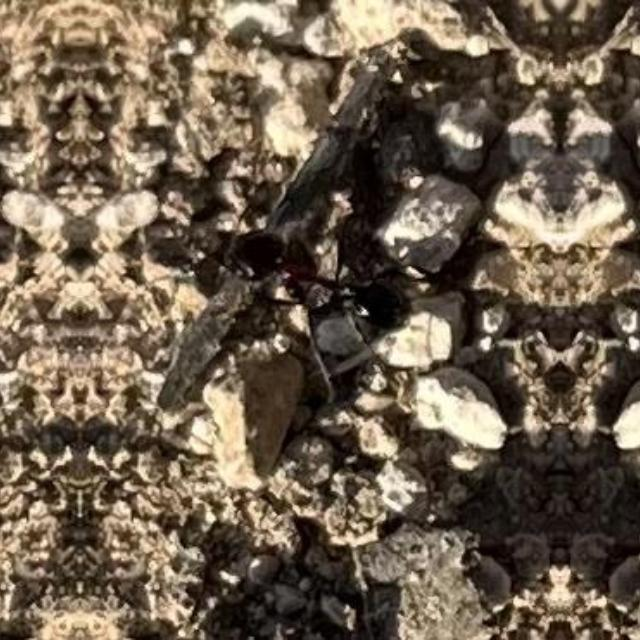Messor: (208, 218, 408, 358)
